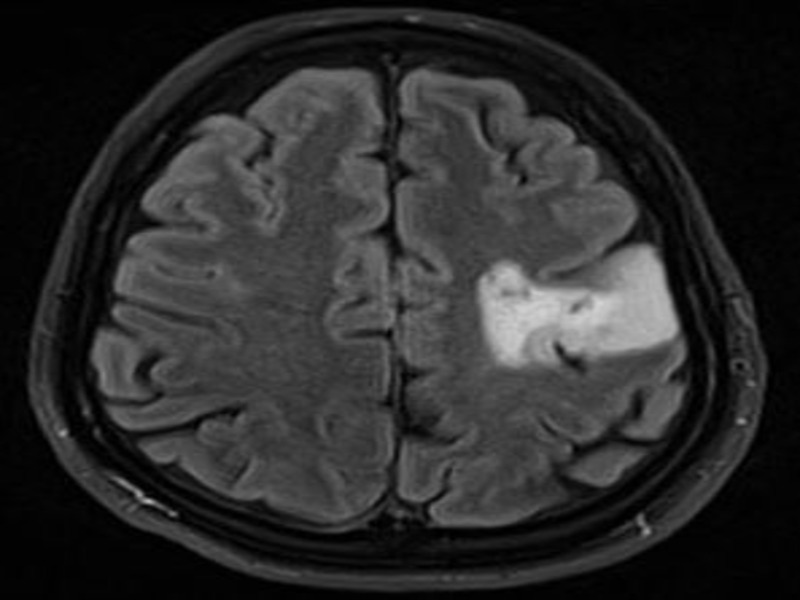tumor: (469, 237, 686, 382)
